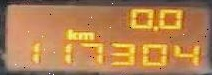-: (151, 24, 158, 31)
0: (140, 43, 167, 66), (157, 7, 182, 28), (127, 8, 152, 28)
1: (29, 41, 40, 63), (62, 42, 72, 63)
3: (107, 42, 134, 65)
4: (171, 44, 199, 65)
7: (77, 42, 103, 63)
X: (64, 28, 77, 39), (77, 32, 94, 40)
